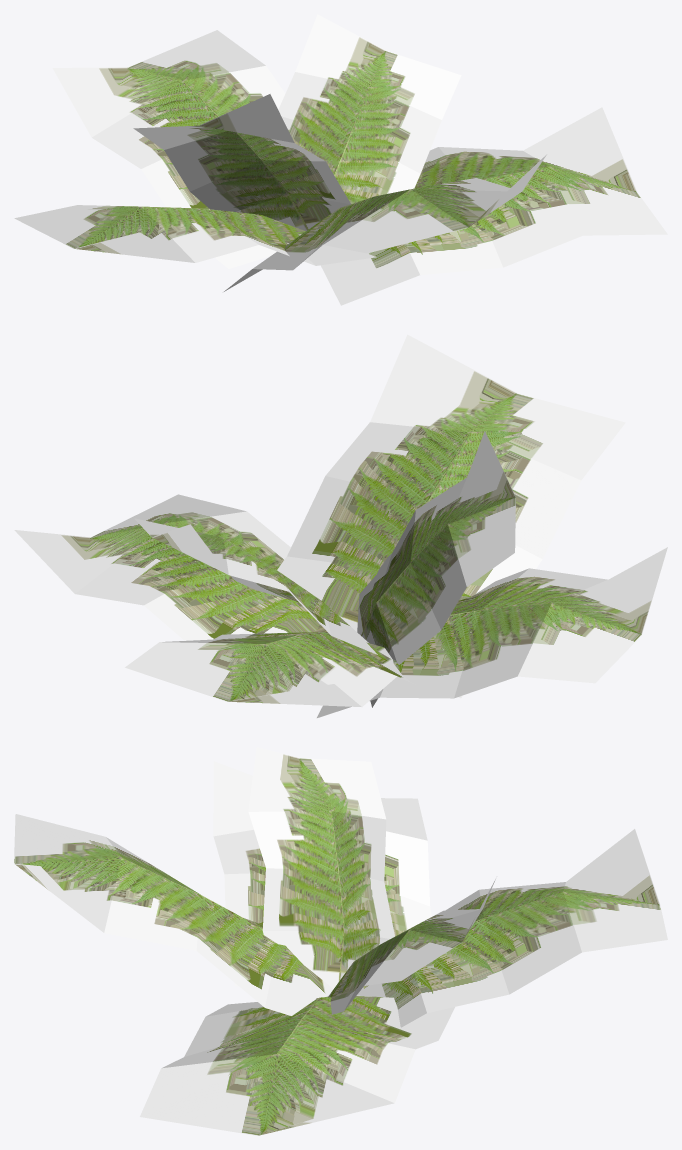
The model's file is Fern.fbx.
3 renders of one model, top to bottom at view 1: azimuth 30°, elevation 25°; view 2: azimuth 150°, elevation 25°; view 3: azimuth 270°, elevation 25°, orthographic. The views are drawn at different scales.
Parts seen in each view (by area): view 1: vegetation_fern_08.005; view 2: vegetation_fern_08.005; view 3: vegetation_fern_08.005.
Part boxes in pixels (x1,y1,x2,y2): vegetation_fern_08.005: [14, 14, 667, 305]; vegetation_fern_08.005: [14, 334, 667, 717]; vegetation_fern_08.005: [14, 747, 667, 1135].
Bounding box in the file's own units: 191 × 71.87 × 182.
